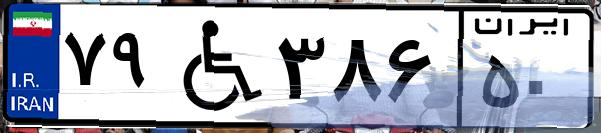0: (525, 38, 570, 115)
3: (270, 28, 330, 110)
5: (475, 38, 525, 113)
6: (385, 28, 445, 110)
7: (57, 26, 110, 100)
8: (330, 28, 385, 110)
9: (110, 28, 158, 98)
ژ (معلولین و جانبازان): (158, 12, 270, 120)
